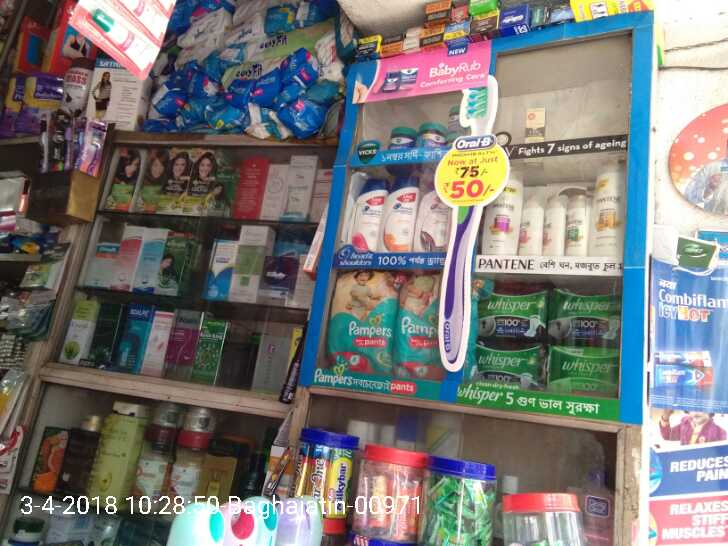vicks: (418, 125, 445, 148), (386, 127, 417, 147), (447, 104, 466, 130)
